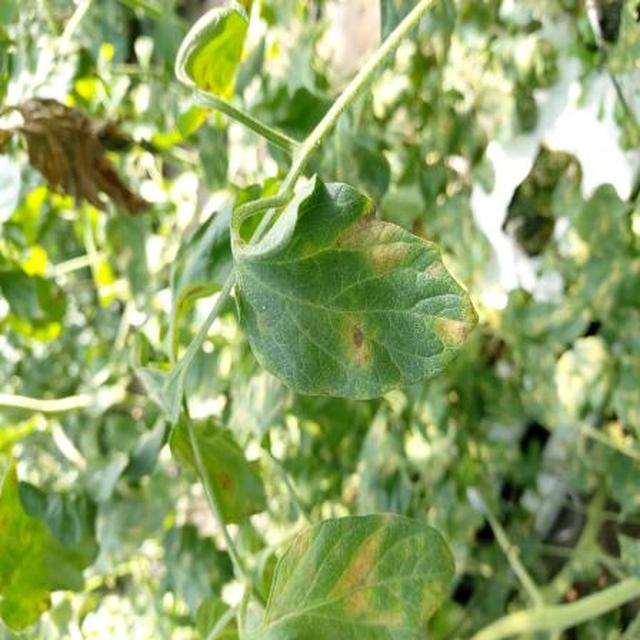Leaf Mold: (284, 187, 510, 640)
